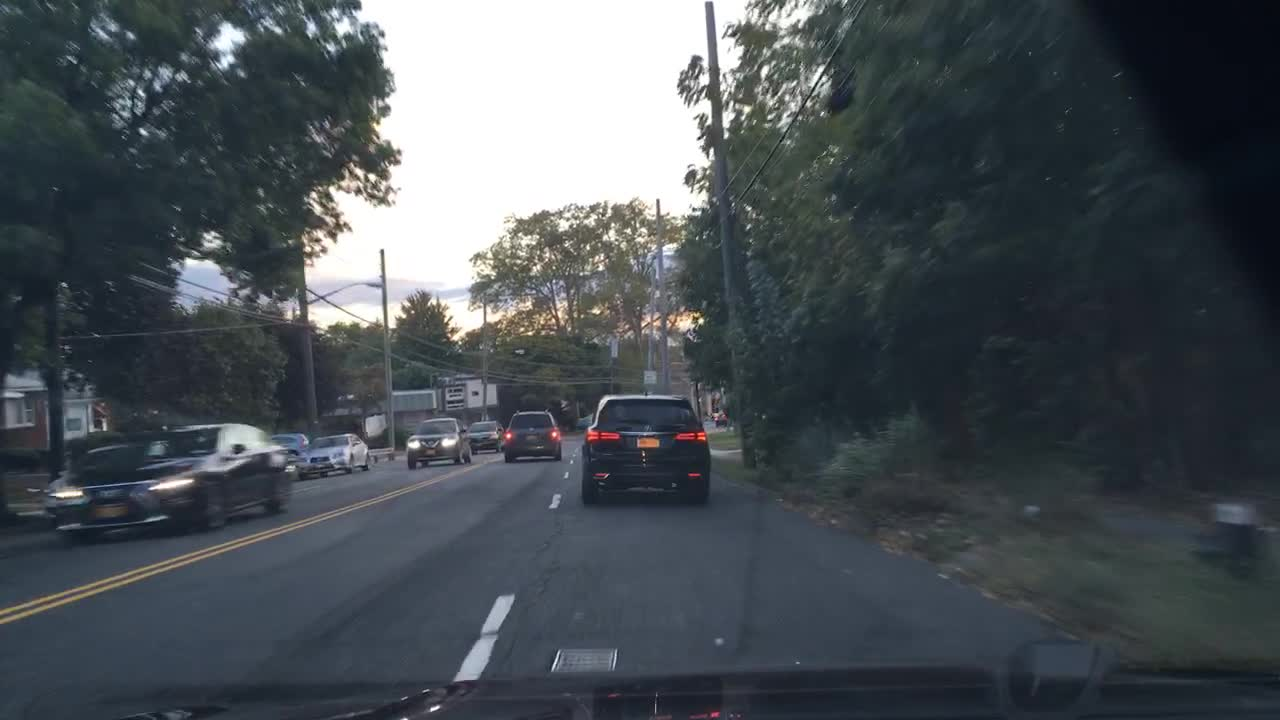car: (43, 419, 292, 545), (580, 392, 713, 505), (406, 413, 471, 469), (295, 433, 373, 478), (503, 408, 559, 461), (269, 430, 313, 463), (463, 421, 505, 453), (713, 409, 733, 425)
traffic sign: (642, 368, 658, 383)
